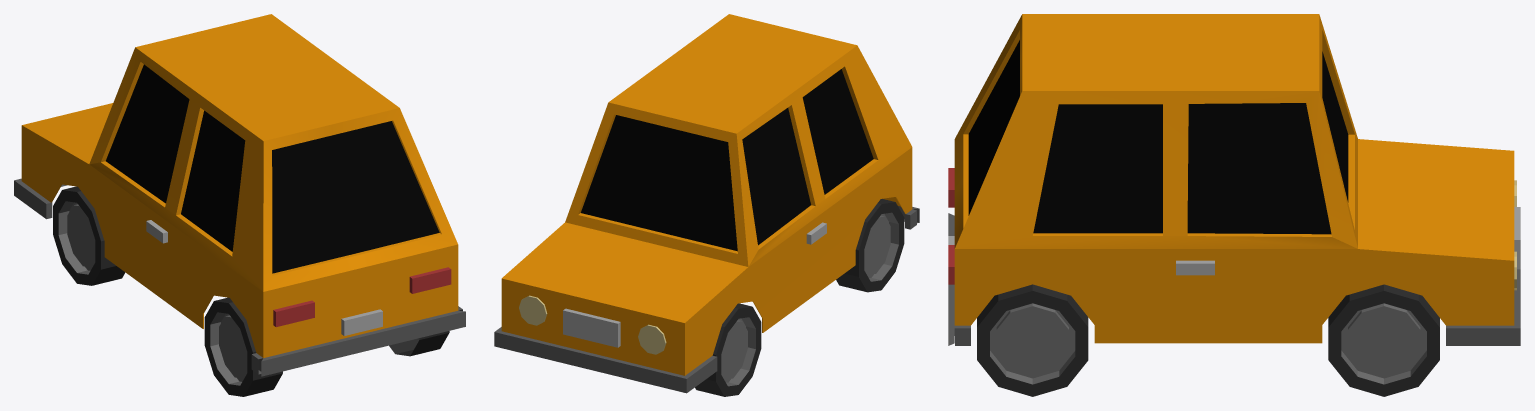
The model's file is Car Hatchbag.fbx.
3 renders of one model, left to right at view 1: azimuth 30°, elevation 25°; view 2: azimuth 150°, elevation 25°; view 3: azimuth 270°, elevation 25°, orthographic. The views are drawn at different scales.
Parts seen in each view (by area): view 1: Car_Hatchbag; view 2: Car_Hatchbag; view 3: Car_Hatchbag.
Part boxes in pixels (box(x1,y1,x2,y2)): Car_Hatchbag: box(14, 14, 465, 396); Car_Hatchbag: box(494, 14, 919, 396); Car_Hatchbag: box(948, 14, 1520, 396).
Bounding box in the file's own units: 210 × 245 × 440.
